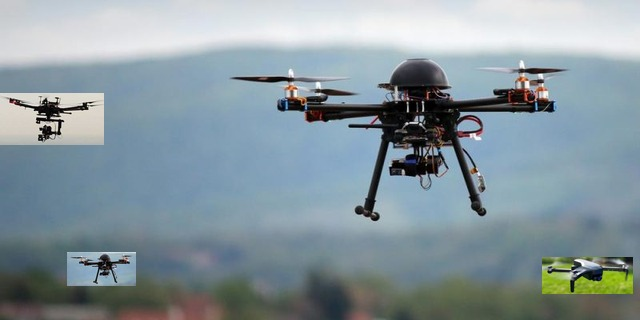drone: (232, 58, 569, 224), (0, 93, 104, 145), (542, 257, 633, 294), (67, 252, 136, 286)
